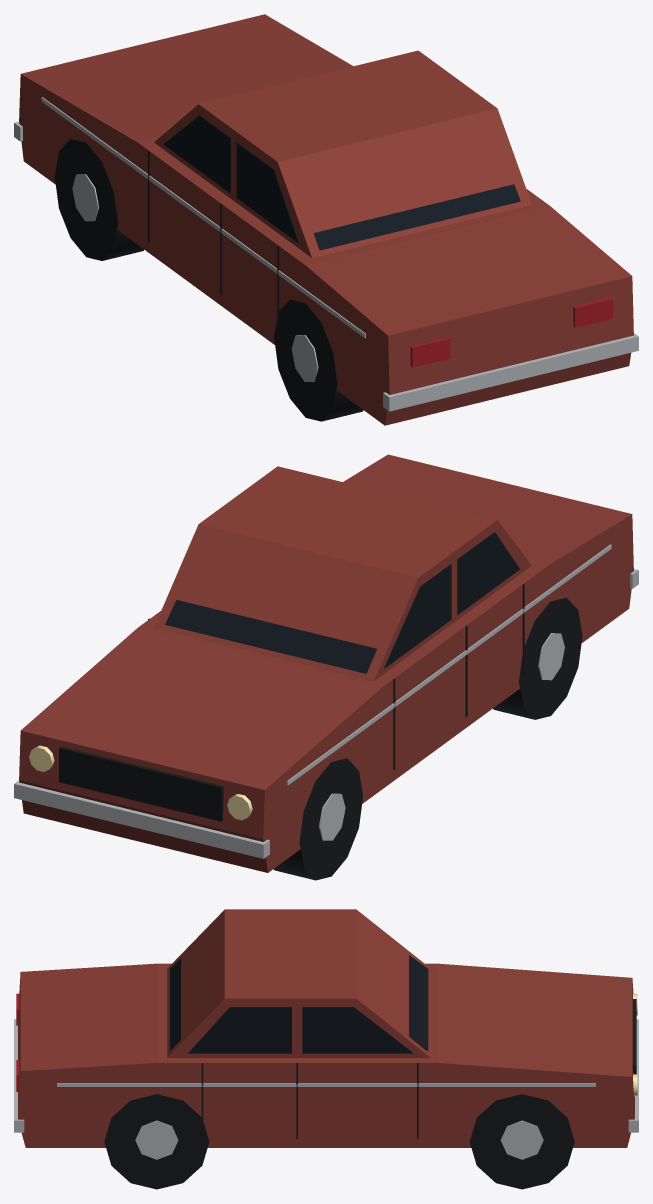
Rendered from car-volga.glb.
3 renders of one model, top to bottom at view 1: azimuth 30°, elevation 25°; view 2: azimuth 150°, elevation 25°; view 3: azimuth 270°, elevation 25°, orthographic. The views are drawn at different scales.
Parts seen in each view (by area): view 1: 01_paint0, 00_#1e2022_noshadow_r320, 02_#1a2026_noshadow_r320, 03_#b8bcc0_noshadow_r110, 05_#a3262c_noshadow_r110; view 2: 01_paint0, 00_#1e2022_noshadow_r320, 02_#1a2026_noshadow_r320, 03_#b8bcc0_noshadow_r110, 04_#ffe9b0_noshadow; view 3: 01_paint0, 00_#1e2022_noshadow_r320, 02_#1a2026_noshadow_r320, 03_#b8bcc0_noshadow_r110.
Part boxes in pixels (x1,y1,x2,y2): 01_paint0: (19, 14, 633, 425); 00_#1e2022_noshadow_r320: (54, 139, 363, 421); 02_#1a2026_noshadow_r320: (163, 115, 520, 250); 03_#b8bcc0_noshadow_r110: (14, 97, 638, 411); 05_#a3262c_noshadow_r110: (410, 297, 612, 367); 01_paint0: (19, 454, 633, 872); 00_#1e2022_noshadow_r320: (59, 584, 582, 880); 02_#1a2026_noshadow_r320: (165, 532, 519, 673); 03_#b8bcc0_noshadow_r110: (14, 544, 638, 858); 04_#ffe9b0_noshadow: (29, 745, 252, 820); 01_paint0: (18, 909, 634, 1147); 00_#1e2022_noshadow_r320: (104, 999, 636, 1189); 02_#1a2026_noshadow_r320: (170, 955, 428, 1053); 03_#b8bcc0_noshadow_r110: (14, 1019, 638, 1159).
Size of the model in its own units: 1.84 by 1.57 by 4.79.
